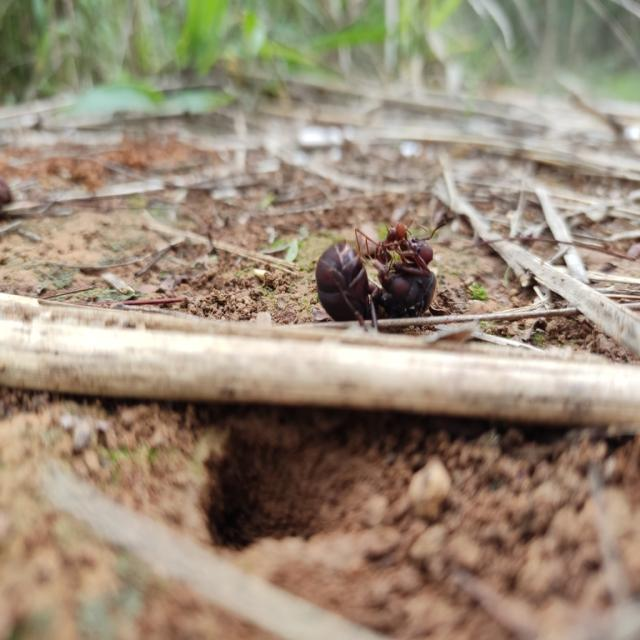Alive-Female-Dealate: (315, 220, 447, 330)
